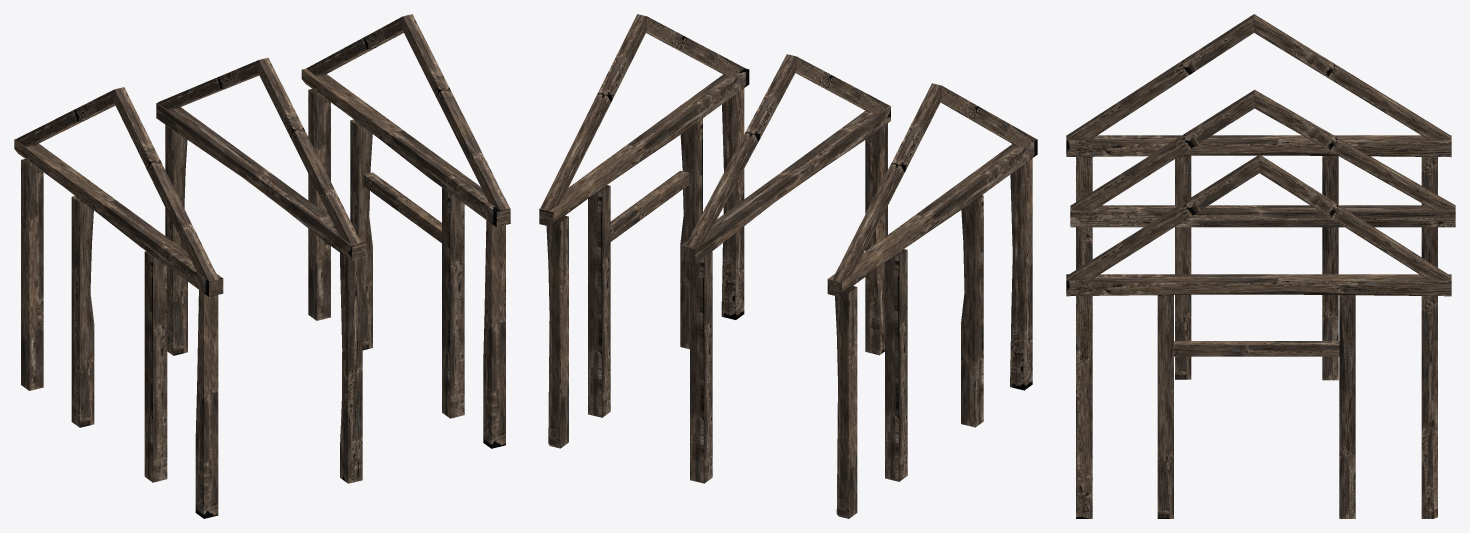
Rendered from Saray_Wooden_Crossing_.fbx.
The picture shows the model from 3 angles, left to right: view 1: azimuth 30°, elevation 25°; view 2: azimuth 150°, elevation 25°; view 3: azimuth 270°, elevation 25°; orthographic projection.
Parts seen in each view (by area): view 1: SarayBrusLOD0:SarayBrusLOD0_4; view 2: SarayBrusLOD0:SarayBrusLOD0_4; view 3: SarayBrusLOD0:SarayBrusLOD0_4.
Boxes of the visible parts, left/top/right/bottom form: SarayBrusLOD0:SarayBrusLOD0_4: left=14, top=14, right=510, bottom=518; SarayBrusLOD0:SarayBrusLOD0_4: left=539, top=14, right=1037, bottom=518; SarayBrusLOD0:SarayBrusLOD0_4: left=1066, top=14, right=1455, bottom=518.
Size of the model in its own units: 49.5 by 56.73 by 55.7.
Materials: 1 (1 with a texture image).
